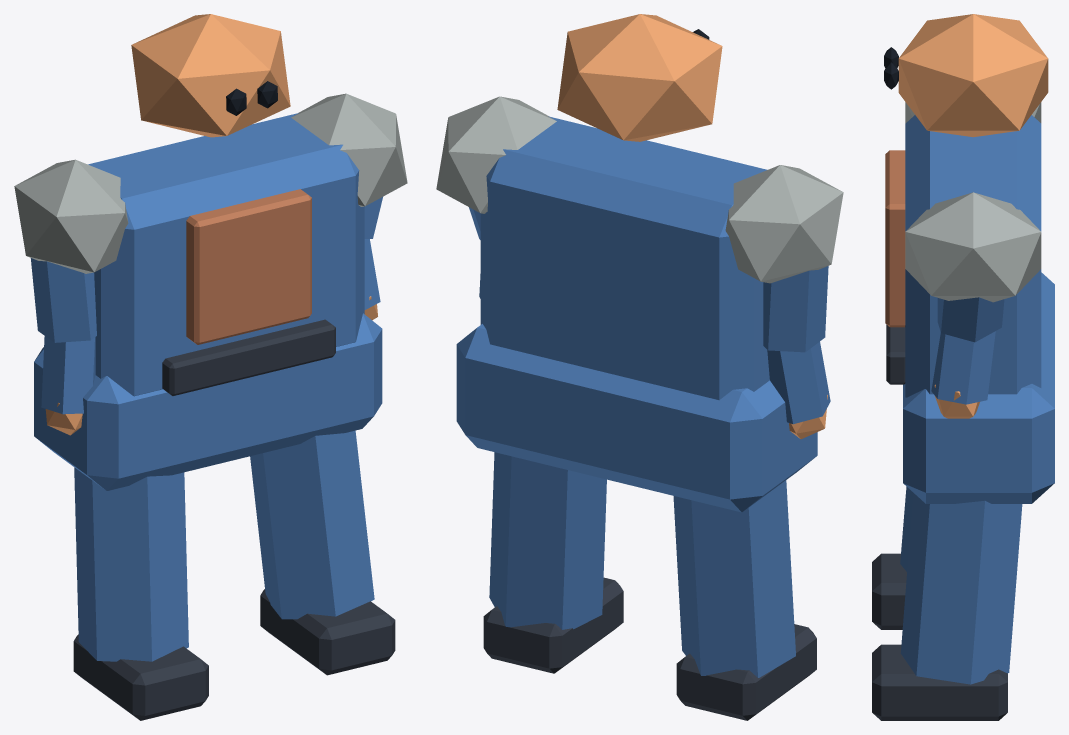
The model's file is npcs_032_seed11.glb.
The picture shows the model from 3 angles, left to right: view 1: azimuth 30°, elevation 25°; view 2: azimuth 150°, elevation 25°; view 3: azimuth 270°, elevation 25°; orthographic projection. The views are drawn at different scales.
Parts seen in each view (by area): view 1: npcs_032_seed11; view 2: npcs_032_seed11; view 3: npcs_032_seed11.
Part boxes in pixels (box(x1,y1,x2,y2)): npcs_032_seed11: box(14, 14, 407, 720); npcs_032_seed11: box(436, 14, 843, 720); npcs_032_seed11: box(872, 14, 1054, 720).
Bounding box in the file's own units: 1.15 × 1.92 × 0.4937.
